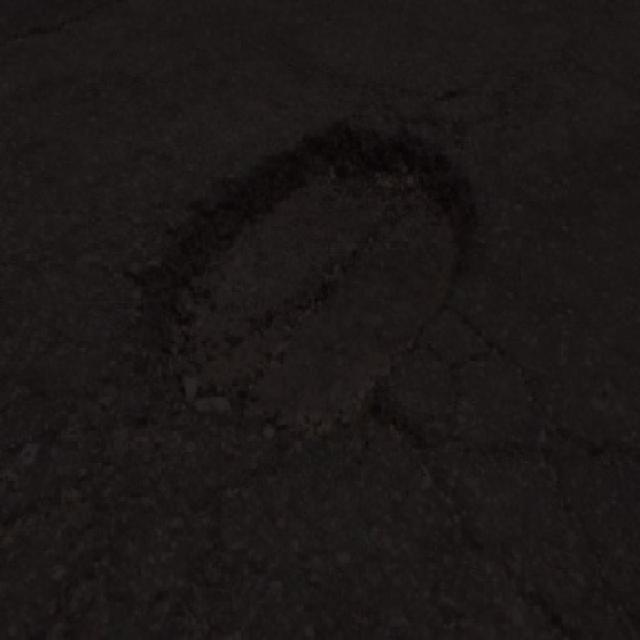Pothole: (139, 106, 489, 482)
